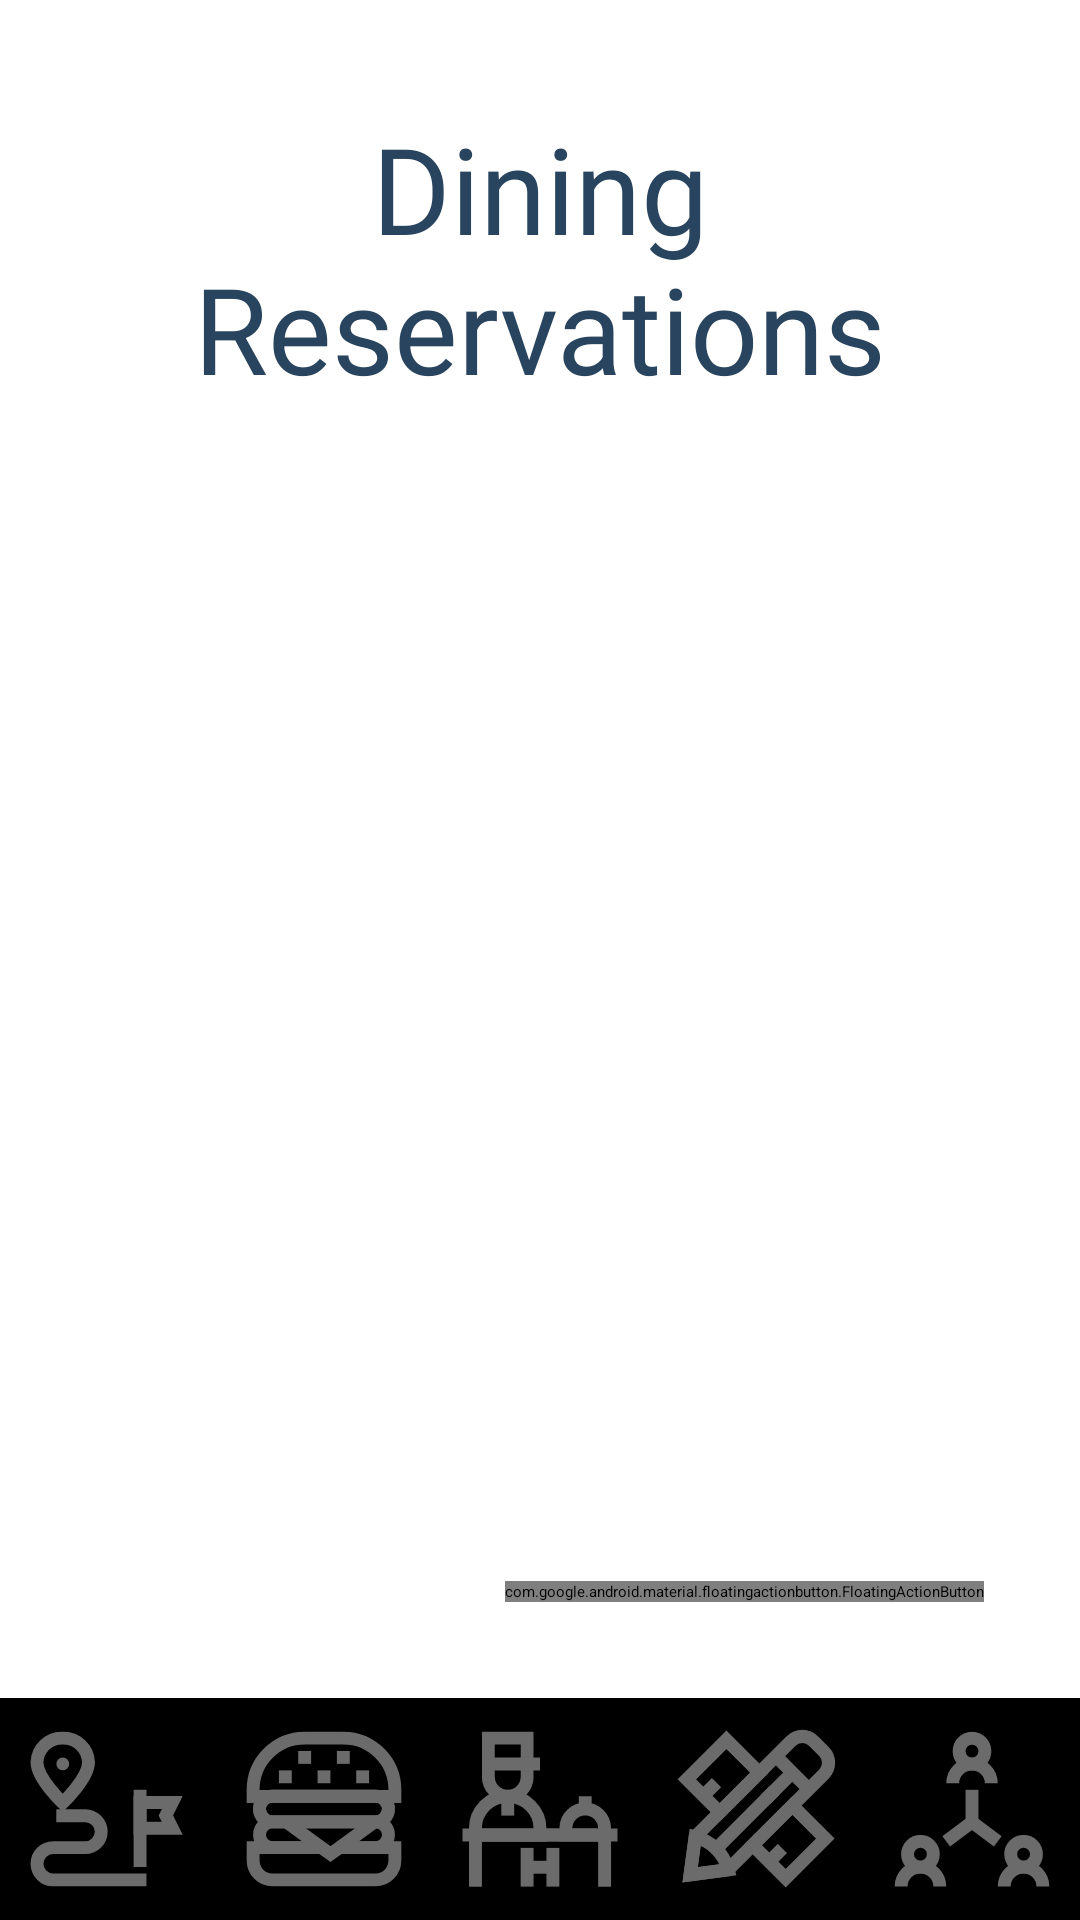

Locate icon controls on the screen. Image size 1080px x 1920px, boxes as (x1, y1, x2, y2).
accommodations: (462, 1731, 618, 1887)
destinations: (30, 1731, 183, 1887)
dining establishments: (246, 1731, 402, 1887)
travel community: (894, 1732, 1050, 1887)
